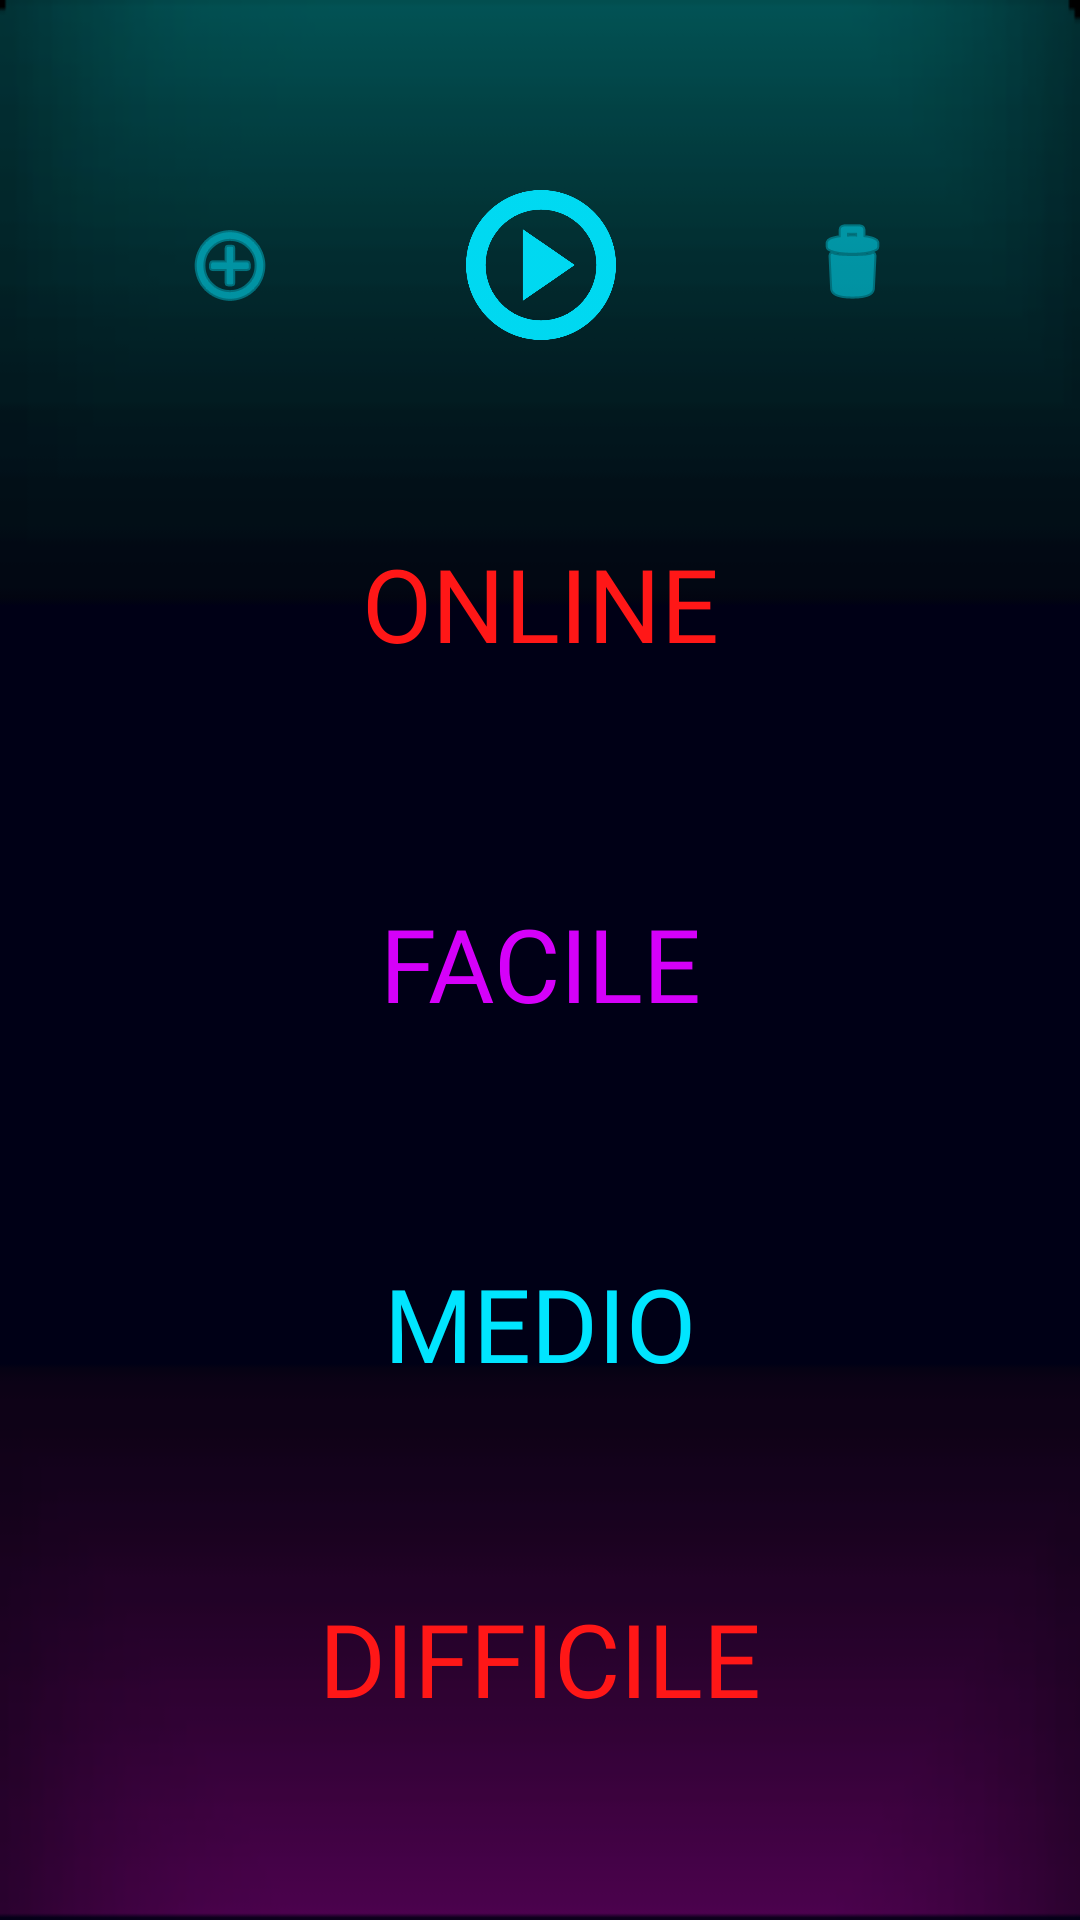

Locate icon controls on the screen. Image size 1080px×1920px, boxes as rect(x1, y1, x2, y2).
Create custom level: rect(194, 230, 266, 301)
Delete custom level: rect(826, 224, 879, 299)
Play custom level: rect(458, 190, 623, 340)
